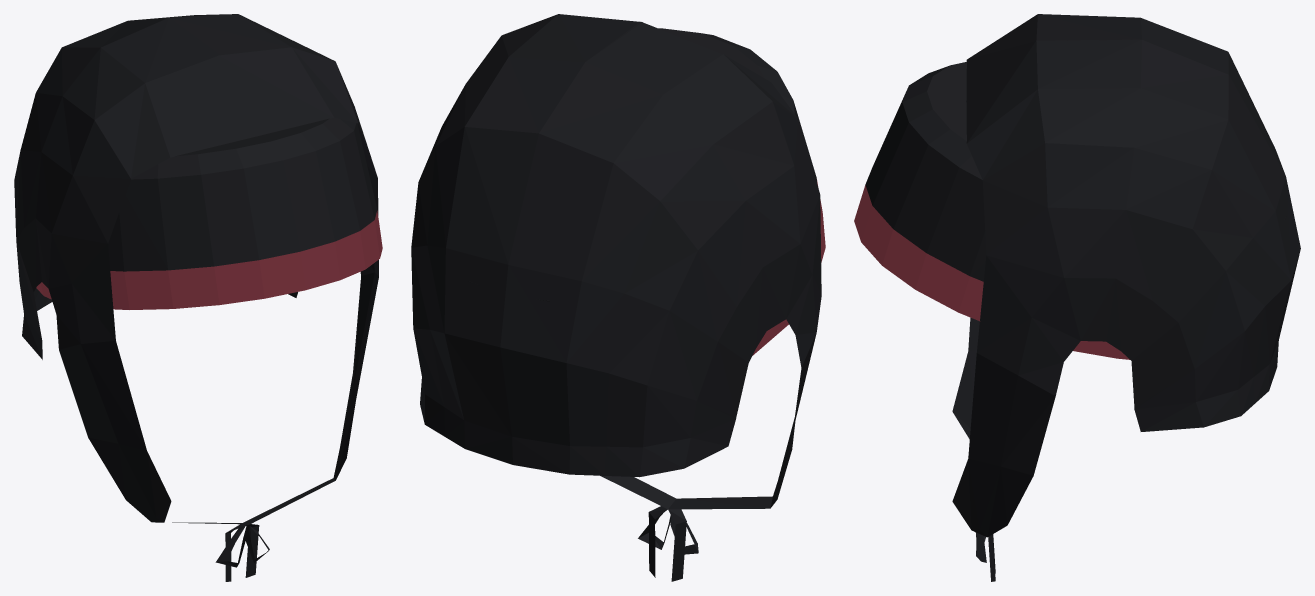
Rendered from hanDynastyWarriorHatSimple.glb.
3 views of the same model, side by side, from view 1: azimuth 30°, elevation 25°; view 2: azimuth 150°, elevation 25°; view 3: azimuth 270°, elevation 25° (orthographic). The views are drawn at different scales.
Visible parts, largest first — view 1: hanDynastyWarriorHatSimple; view 2: hanDynastyWarriorHatSimple; view 3: hanDynastyWarriorHatSimple.
Boxes of the visible parts, x1=… form: hanDynastyWarriorHatSimple: x1=14, y1=14, x2=382, y2=581; hanDynastyWarriorHatSimple: x1=411, y1=14, x2=825, y2=581; hanDynastyWarriorHatSimple: x1=854, y1=14, x2=1300, y2=581.
Size of the model in its own units: 0.275 by 0.4354 by 0.3278.
